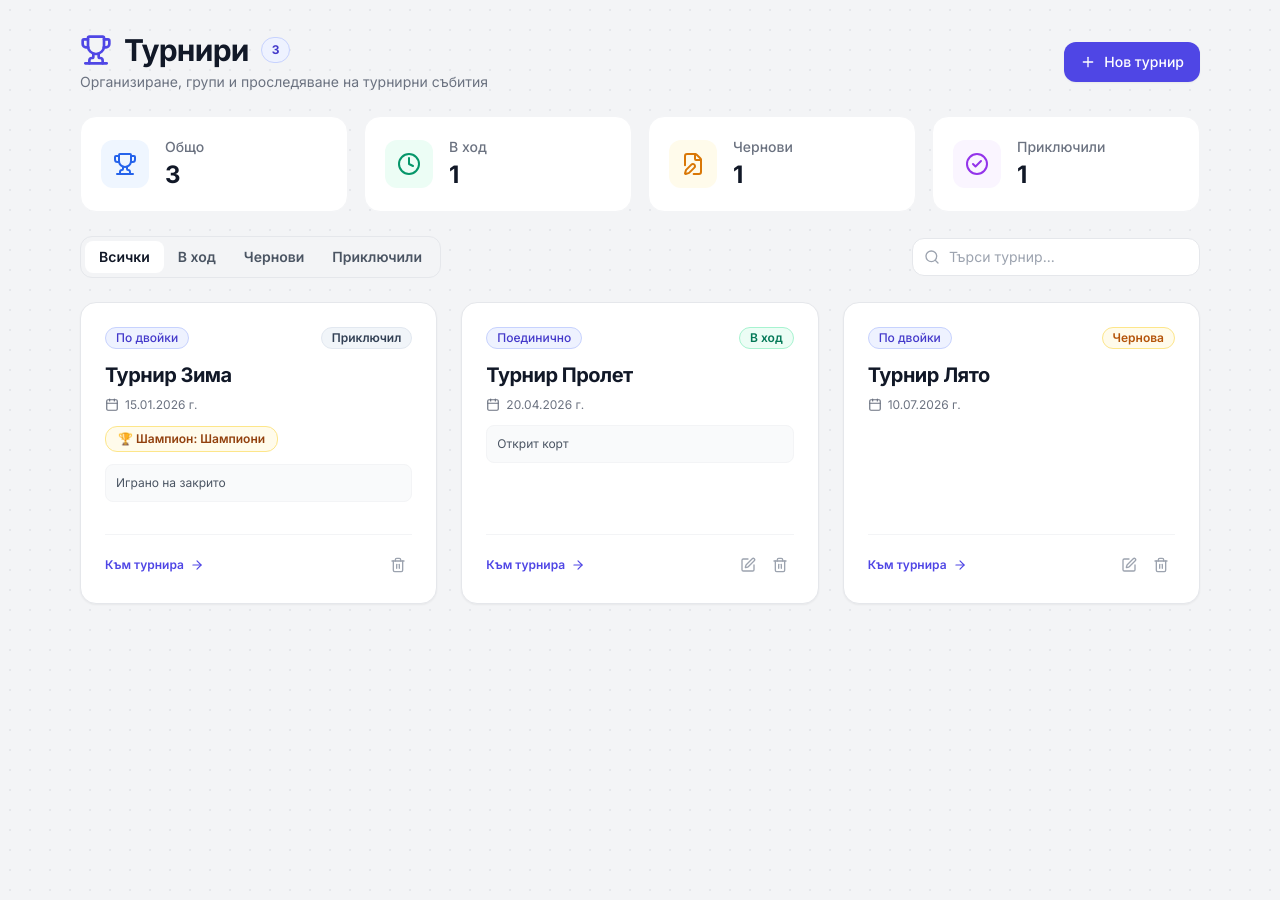
Test: TournamentsPage › renders search empty state when search query matches nothing
The width and height of the screenshot is (1280, 900).
Type "несъществуващ" into the field with placeholder "Търси турнир..." at (1056, 257), box [912,238,1200,276]
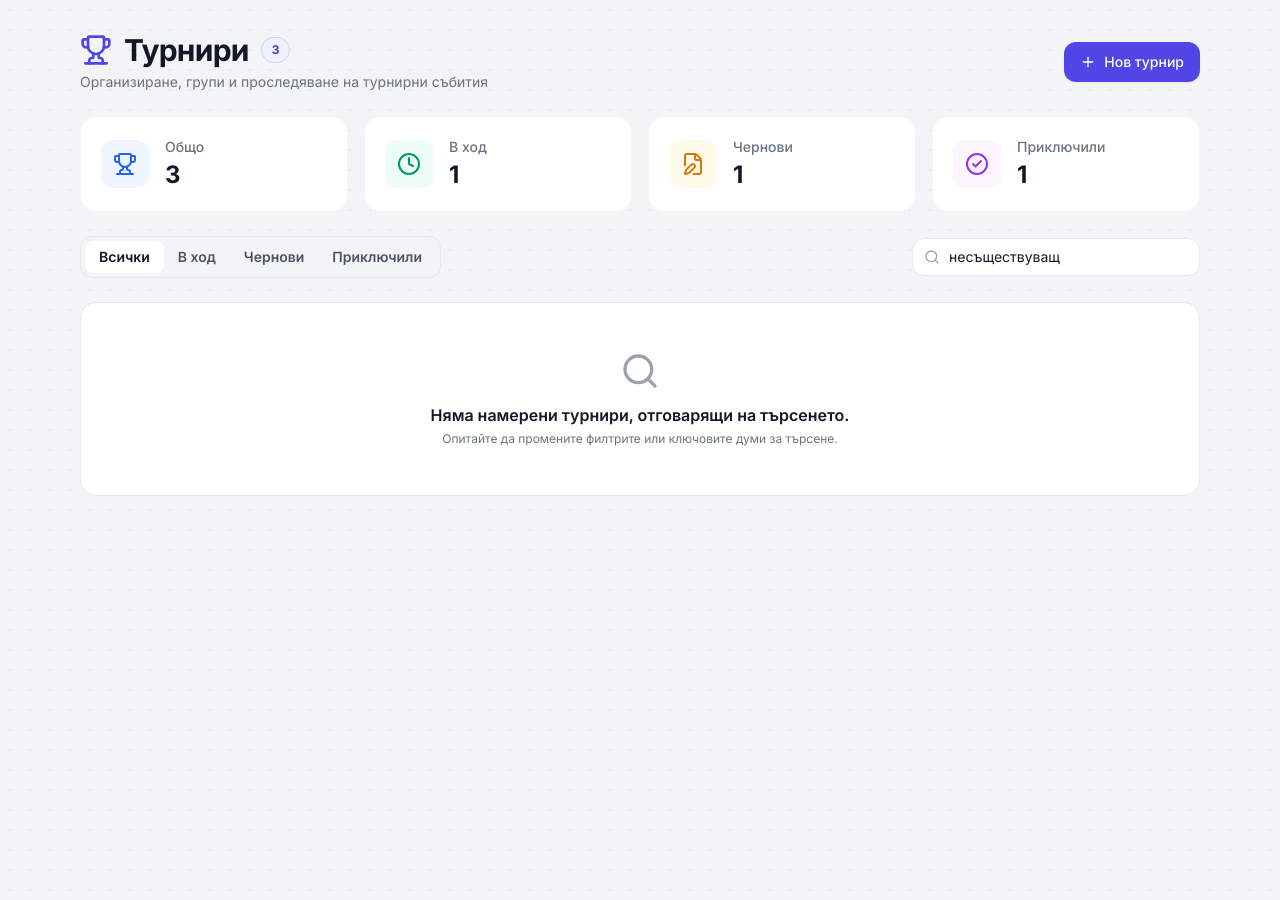
Expected: the heading "Няма намерени турнири, отговарящи на търсенето." is shown, [431,405,849,425]
